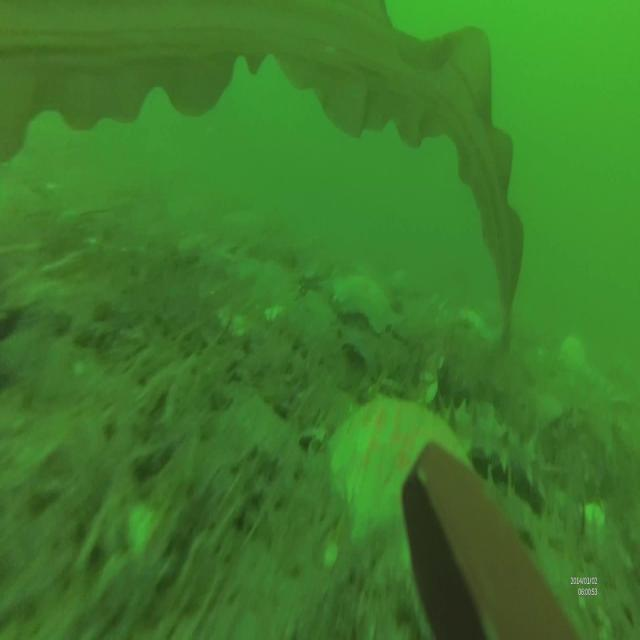starfish: (329, 396, 464, 551), (328, 268, 396, 332)
